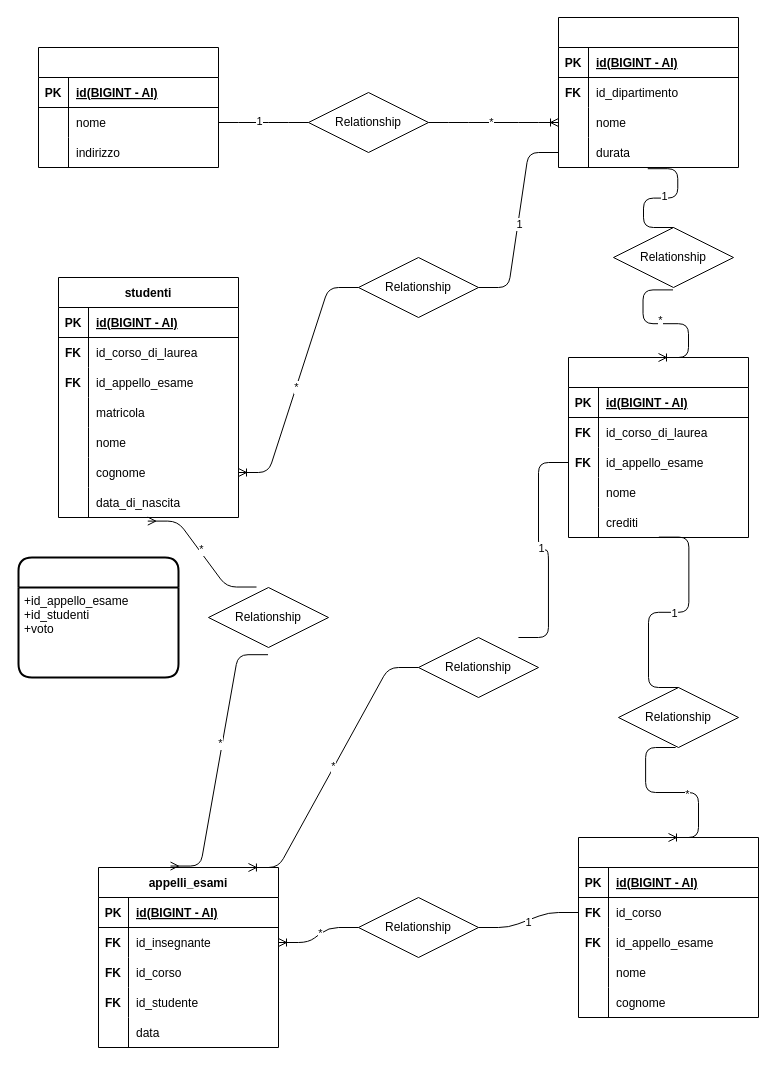
The diagram is 776 pixels wide and 1065 high, and some of its shapes have lost their labels. Each missing label, with the box of its shape:
appello_esame,_studente: (17, 556, 179, 678)
corsi: (568, 356, 748, 538)
corsi_di_laurea: (558, 16, 738, 168)
dipartimenti: (38, 46, 218, 168)
insegnanti: (578, 836, 758, 1018)
